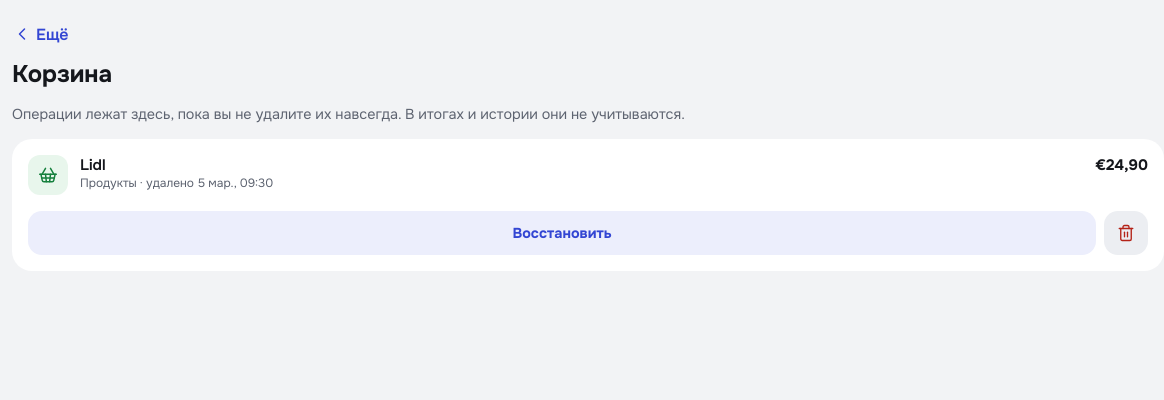
Test: TrashScreen › shows an action error and keeps the confirmation for a retry
Click the button named "Удалить навсегда: Lidl": click(1126, 233) 1104,211 -> 1148,255
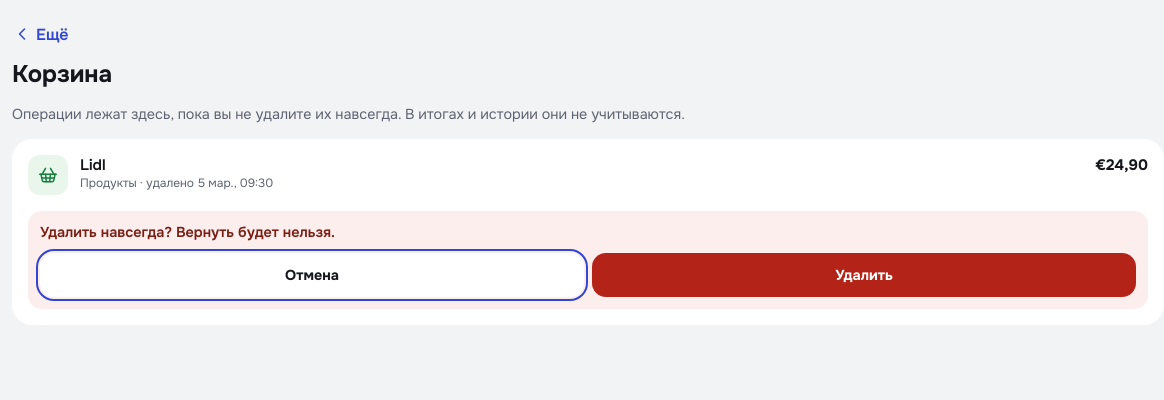
Click the button "Удалить": click(864, 275) 592,253 -> 1136,297
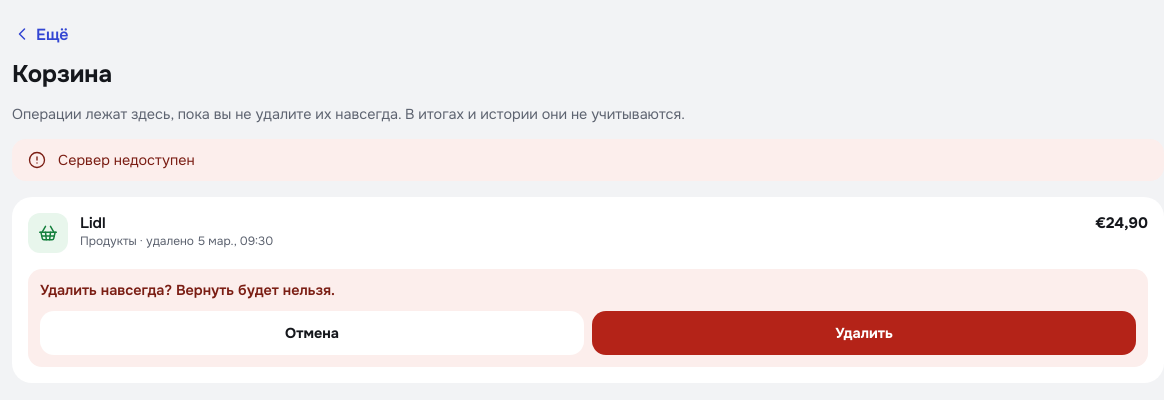
Result: the button "Удалить" is enabled at 592,311 -> 1136,355
Result: the message reads "Сервер недоступен" at 58,151 -> 195,169
